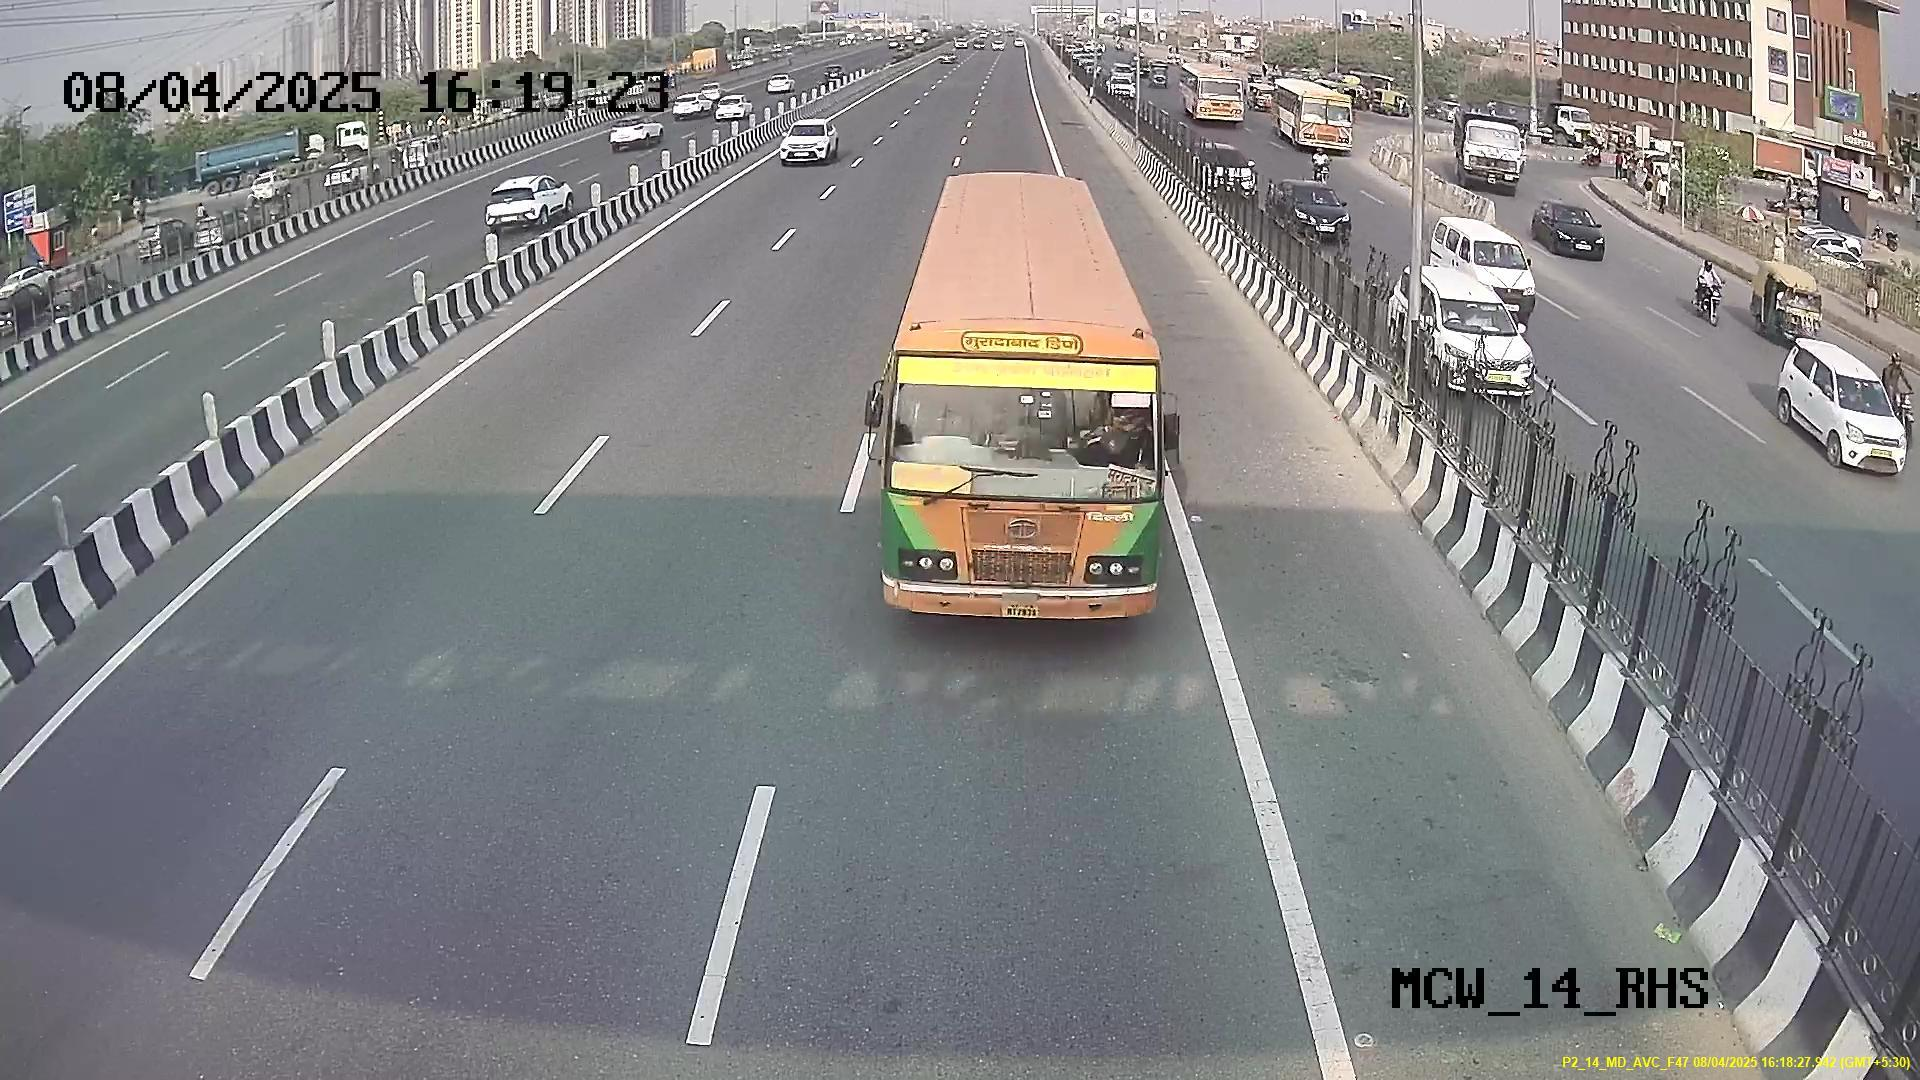bus: (853, 272, 1180, 625)
